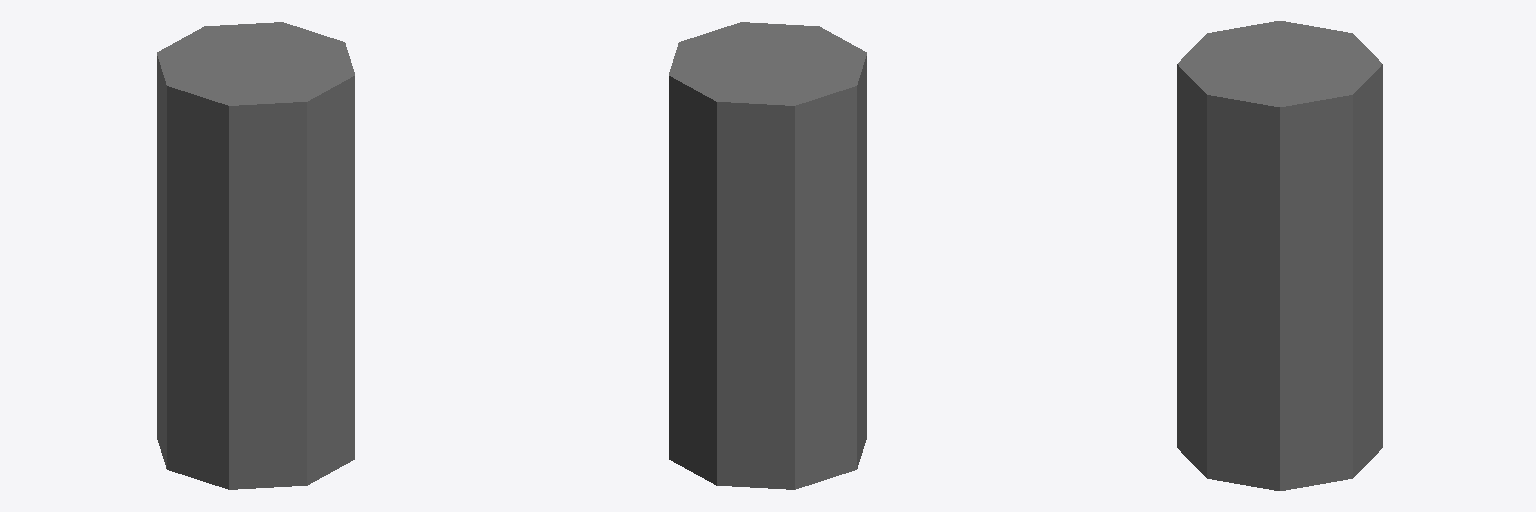
File: Player_RightLeg.obj
3 renders of one model, left to right at view 1: azimuth 30°, elevation 25°; view 2: azimuth 150°, elevation 25°; view 3: azimuth 270°, elevation 25°, orthographic.
Parts seen in each view (by area): view 1: LeftLeg; view 2: LeftLeg; view 3: LeftLeg.
Part boxes in pixels (x1,y1,x2,y2): LeftLeg: (157,22,354,489); LeftLeg: (669,22,866,489); LeftLeg: (1177,21,1382,490).
Bounding box in the file's own units: 13.6 × 27.99 × 13.6.